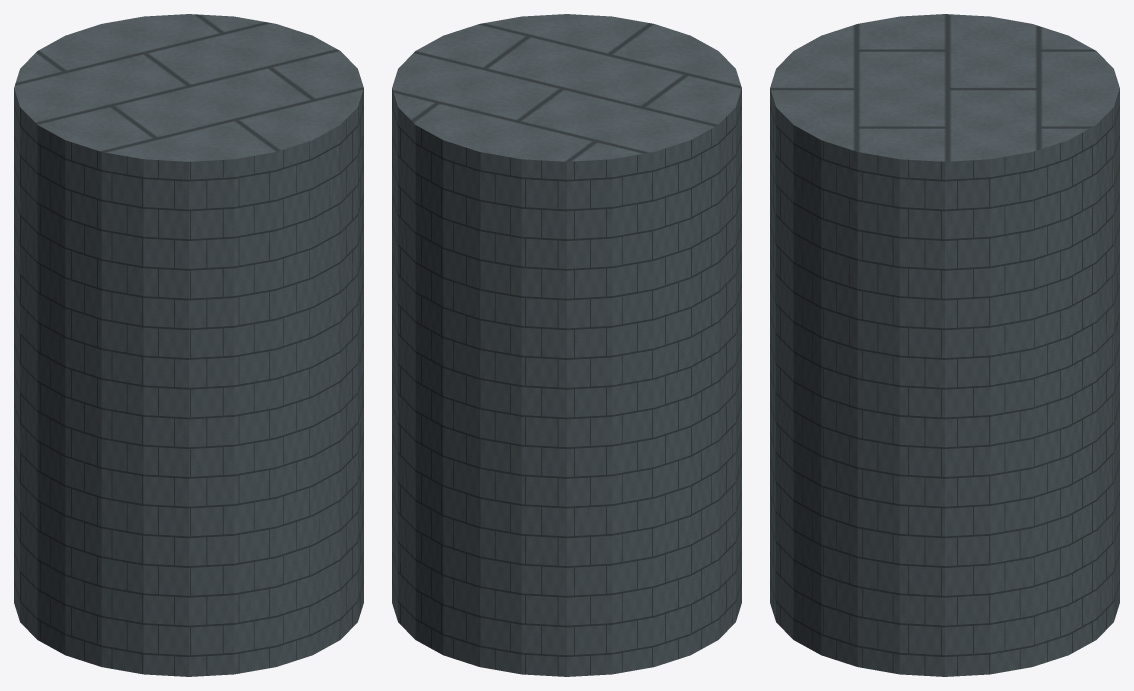
The model's file is tower_shaft.glb.
3 renders of one model, left to right at view 1: azimuth 30°, elevation 25°; view 2: azimuth 150°, elevation 25°; view 3: azimuth 270°, elevation 25°, orthographic.
Parts seen in each view (by area): view 1: ASSET_tower_shaft; view 2: ASSET_tower_shaft; view 3: ASSET_tower_shaft.
Boxes of the visible parts, box(x1,y1,x2,y2) form: ASSET_tower_shaft: box(14, 14, 363, 676); ASSET_tower_shaft: box(392, 14, 741, 676); ASSET_tower_shaft: box(770, 14, 1119, 676).
Size of the model in its own units: 8 by 13 by 8.
1 material, 1 textured.
